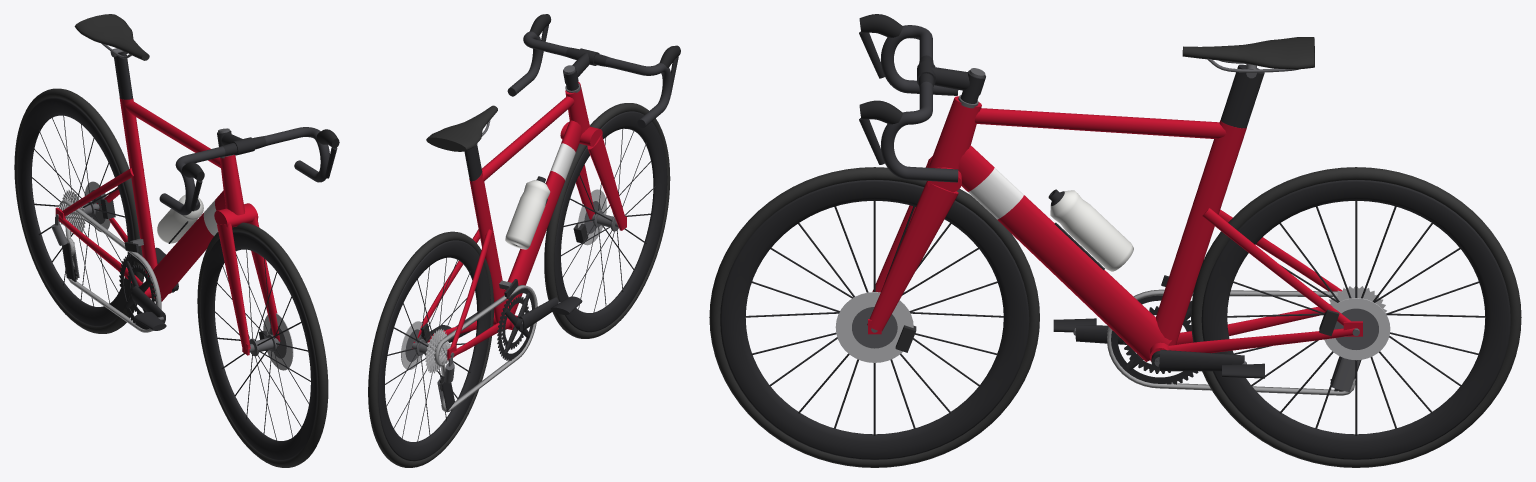
Rendered from Velo_Aero_F.fbx.
3 renders of one model, left to right at view 1: azimuth 30°, elevation 25°; view 2: azimuth 150°, elevation 25°; view 3: azimuth 270°, elevation 25°, orthographic. The views are drawn at different scales.
Parts seen in each view (by area): view 1: Cadre_LOD0, RoueAvant_LOD0, RoueArriere_LOD0, Direction_LOD0, Pedalier_LOD0, PedaleD_LOD0; view 2: Cadre_LOD0, RoueArriere_LOD0, RoueAvant_LOD0, Direction_LOD0, Pedalier_LOD0, PedaleD_LOD0; view 3: Cadre_LOD0, RoueAvant_LOD0, RoueArriere_LOD0, Direction_LOD0, Pedalier_LOD0.
Part boxes in pixels (<box>): Cadre_LOD0: <box>51,14,244,332</box>; RoueAvant_LOD0: <box>197,222,328,467</box>; RoueArriere_LOD0: <box>14,88,144,333</box>; Direction_LOD0: <box>159,127,339,355</box>; Pedalier_LOD0: <box>119,254,178,329</box>; PedaleD_LOD0: <box>133,312,166,330</box>; Cadre_LOD0: <box>412,82,589,412</box>; RoueArriere_LOD0: <box>368,231,493,467</box>; RoueAvant_LOD0: <box>544,103,670,338</box>; Direction_LOD0: <box>507,14,680,243</box>; Pedalier_LOD0: <box>448,288,558,361</box>; PedaleD_LOD0: <box>550,296,582,314</box>; Cadre_LOD0: <box>929,37,1362,395</box>; RoueAvant_LOD0: <box>709,167,1039,467</box>; RoueArriere_LOD0: <box>1191,167,1521,467</box>; Direction_LOD0: <box>859,14,985,352</box>; Pedalier_LOD0: <box>1075,295,1244,384</box>.
Size of what is drawn, in the model's own units: 0.452 by 0.9551 by 1.67.
1 material, 1 textured.
